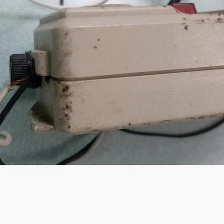three_eye_plug: (3, 0, 224, 139)
